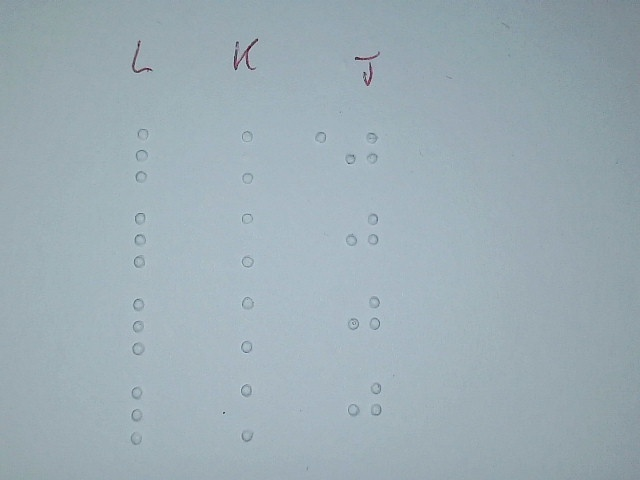J: (343, 123, 379, 179), (344, 205, 380, 261), (346, 289, 382, 345), (347, 375, 383, 431)
K: (234, 126, 275, 187), (234, 209, 275, 270), (233, 293, 274, 354), (234, 382, 275, 443)
L: (128, 125, 169, 186), (126, 209, 167, 270), (124, 296, 165, 357), (123, 384, 164, 445)
